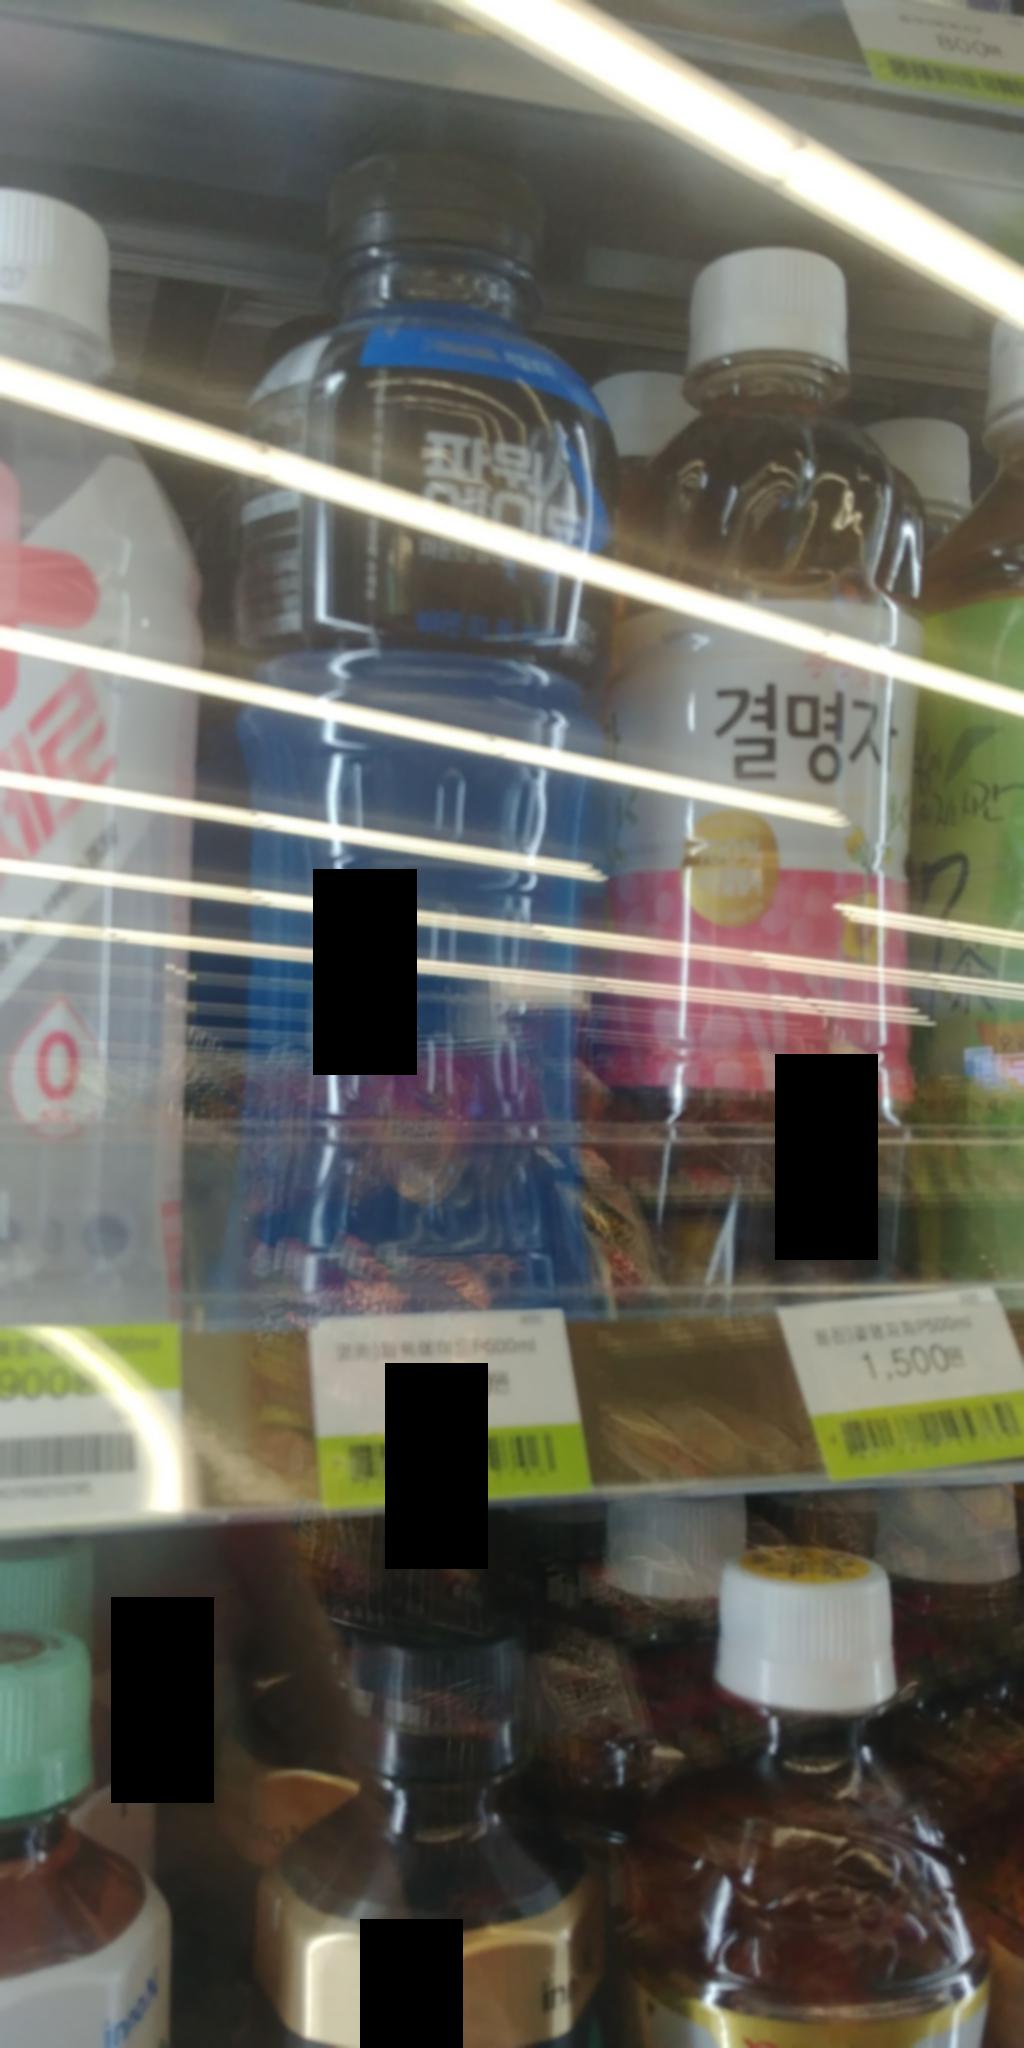powerade_mountainblast: (206, 150, 627, 1344)
